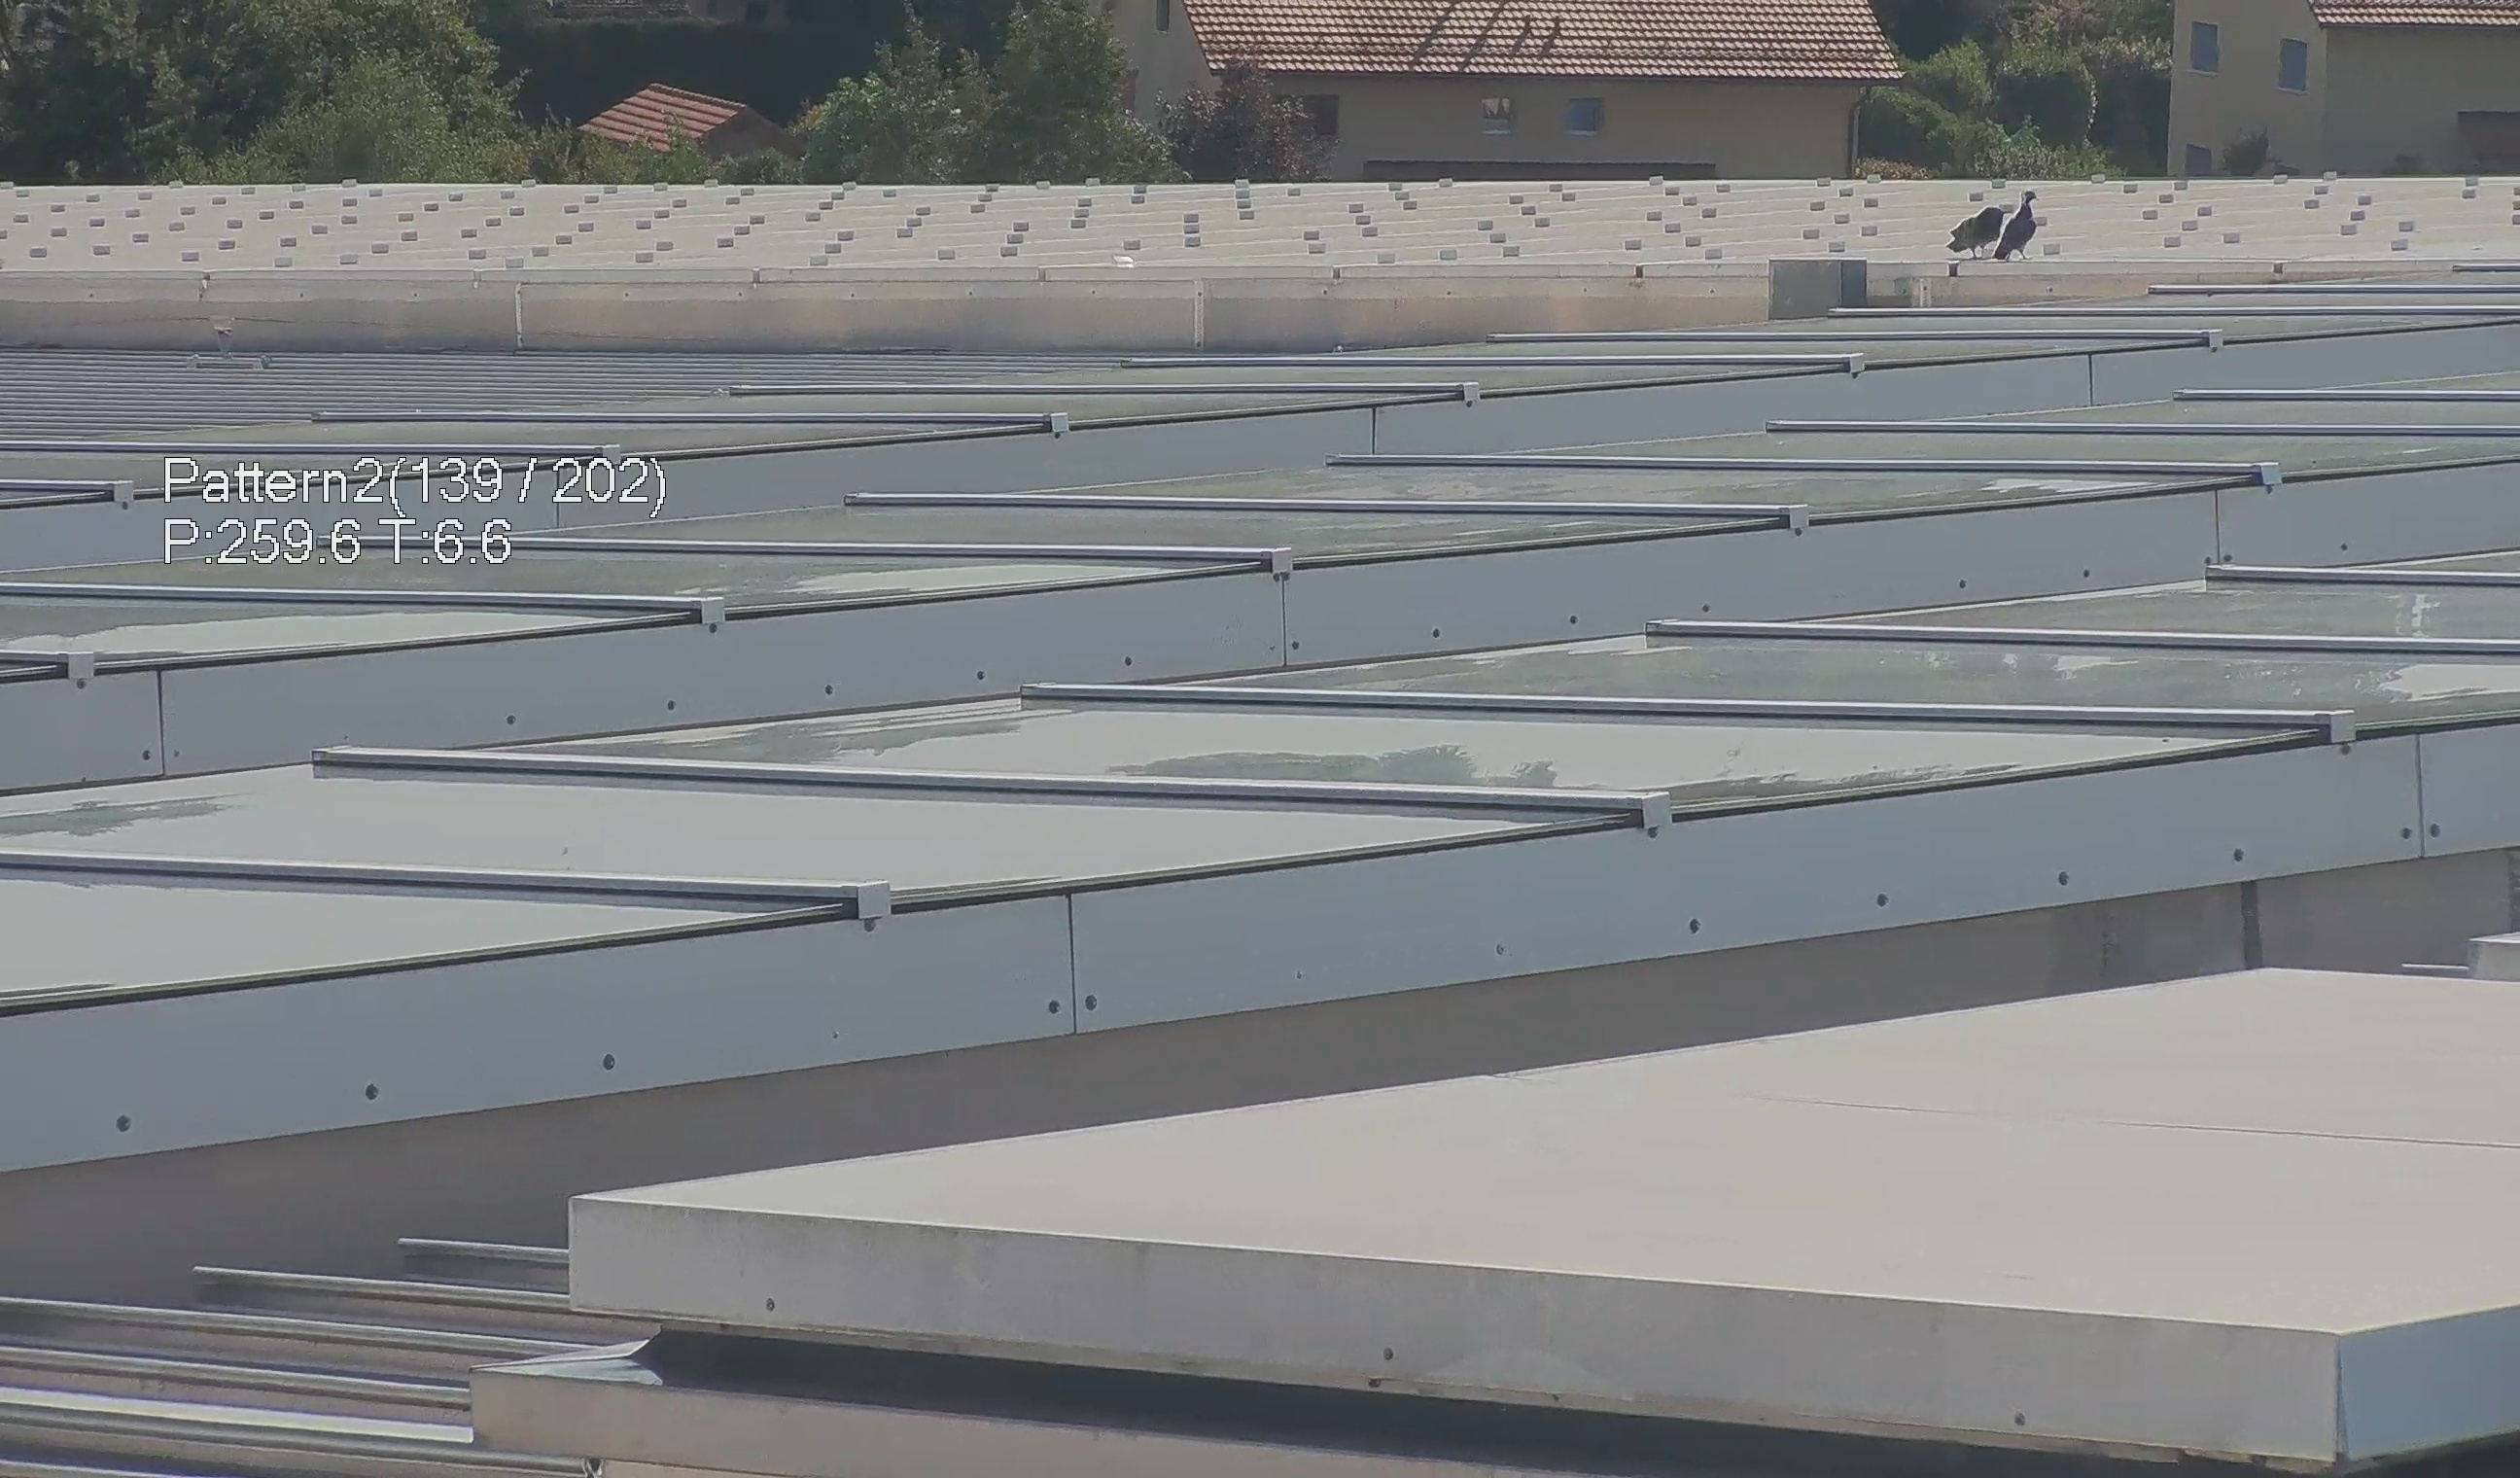Pigeon: (1991, 178, 2056, 271), (1936, 201, 2003, 262)
